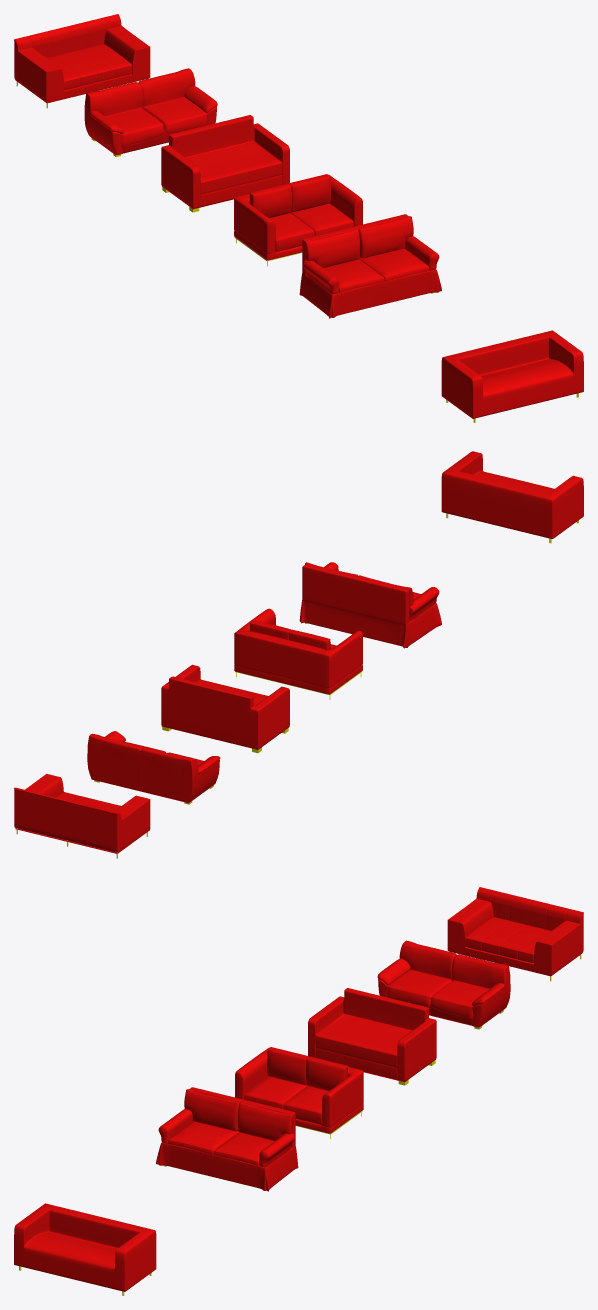
File: thorkea_sofas_grp.fbx
The picture shows the model from 3 angles, top to bottom: view 1: azimuth 30°, elevation 25°; view 2: azimuth 150°, elevation 25°; view 3: azimuth 330°, elevation 25°; orthographic projection.
Visible parts, largest first — view 1: thorkea_sofa_ektorp, thorkea_sofa_klippan, thorkea_sofa_solsta, thorkea_sofa_kramfors, thorkea_sofa_vreta, thorkea_sofa_alrid; view 2: thorkea_sofa_ektorp, thorkea_sofa_klippan, thorkea_sofa_solsta, thorkea_sofa_alrid, thorkea_sofa_kramfors, thorkea_sofa_vreta; view 3: thorkea_sofa_ektorp, thorkea_sofa_klippan, thorkea_sofa_solsta, thorkea_sofa_kramfors, thorkea_sofa_vreta, thorkea_sofa_alrid.
Boxes of the visible parts, <box> form: thorkea_sofa_ektorp: <box>299,214,441,318</box>; thorkea_sofa_klippan: <box>441,330,583,422</box>; thorkea_sofa_solsta: <box>161,115,289,212</box>; thorkea_sofa_kramfors: <box>14,14,150,108</box>; thorkea_sofa_vreta: <box>84,68,217,157</box>; thorkea_sofa_alrid: <box>234,174,362,266</box>; thorkea_sofa_ektorp: <box>299,562,441,648</box>; thorkea_sofa_klippan: <box>441,451,583,543</box>; thorkea_sofa_solsta: <box>161,664,289,753</box>; thorkea_sofa_alrid: <box>234,608,362,699</box>; thorkea_sofa_kramfors: <box>14,774,150,858</box>; thorkea_sofa_vreta: <box>87,731,220,804</box>; thorkea_sofa_ektorp: <box>156,1087,298,1191</box>; thorkea_sofa_klippan: <box>14,1203,156,1295</box>; thorkea_sofa_solsta: <box>308,988,436,1085</box>; thorkea_sofa_kramfors: <box>447,887,583,981</box>; thorkea_sofa_vreta: <box>377,940,510,1029</box>; thorkea_sofa_alrid: <box>235,1047,363,1139</box>.
Size of the model in its own units: 181 by 89.33 by 1289.
